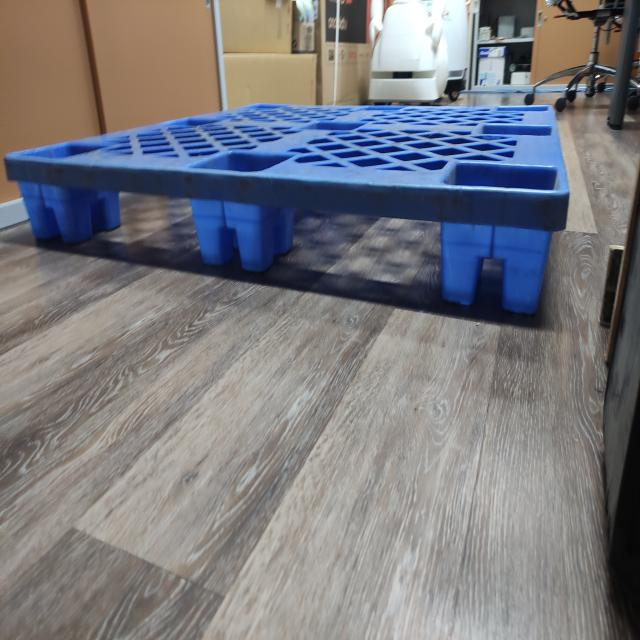block: (442, 218, 546, 316), (189, 197, 270, 274), (15, 177, 77, 250)
front: (0, 149, 568, 332)
